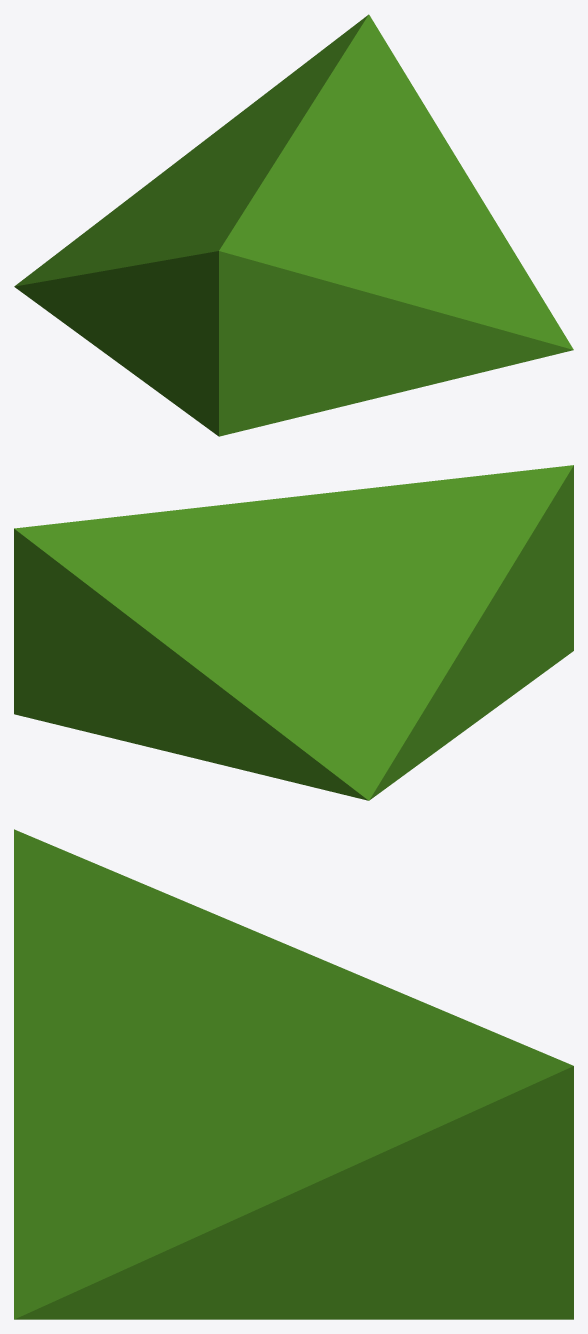
The model's file is slope4.glb.
The picture shows the model from 3 angles, top to bottom: view 1: azimuth 30°, elevation 25°; view 2: azimuth 150°, elevation 25°; view 3: azimuth 270°, elevation 25°; orthographic projection. The views are drawn at different scales.
Visible parts, largest first — view 1: Cube.007; view 2: Cube.007; view 3: Cube.007.
Boxes of the visible parts, x1,y1,x2,y2 form: Cube.007: (14, 14, 573, 436); Cube.007: (14, 465, 573, 800); Cube.007: (14, 829, 573, 1319).
Size of the model in its own units: 4 by 2 by 4.
